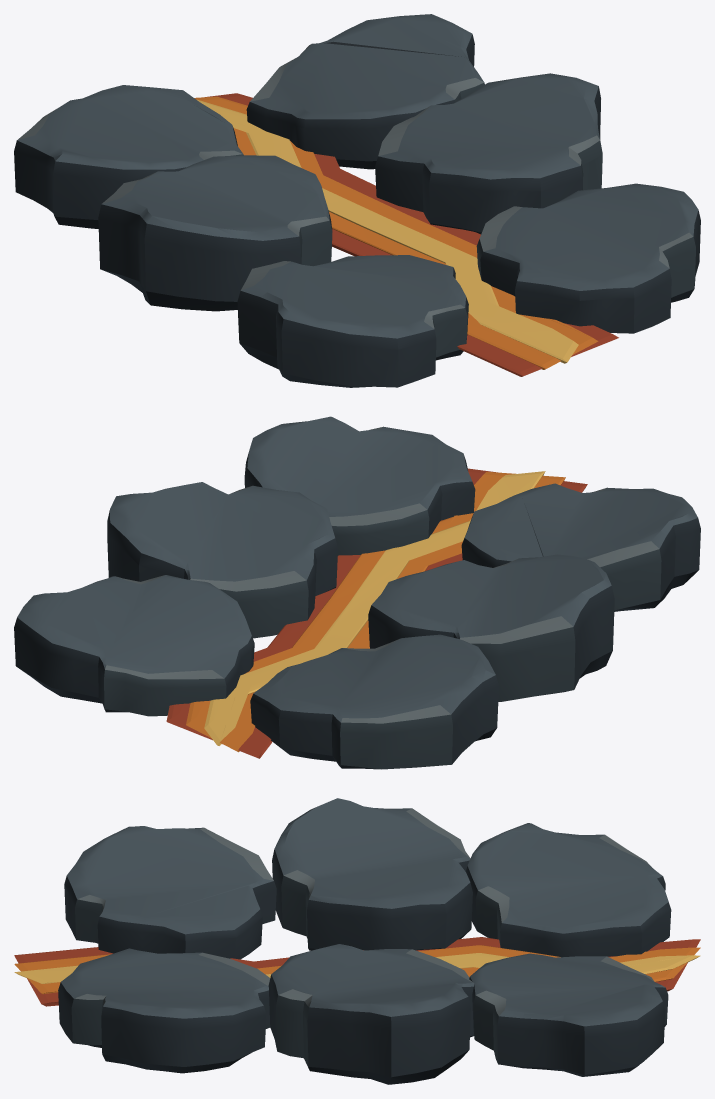
Rendered from fw_lava_fissure.hi.glb.
The picture shows the model from 3 angles, top to bottom: view 1: azimuth 30°, elevation 25°; view 2: azimuth 150°, elevation 25°; view 3: azimuth 270°, elevation 25°; orthographic projection. The views are drawn at different scales.
Visible parts, largest first — view 1: body; view 2: body; view 3: body.
Part boxes in pixels (x1,y1,x2,y2): body: (14,14,700,387); body: (14,416,700,769); body: (14,798,700,1084).
Size of the model in its own units: 1.98 by 0.3423 by 2.63.
